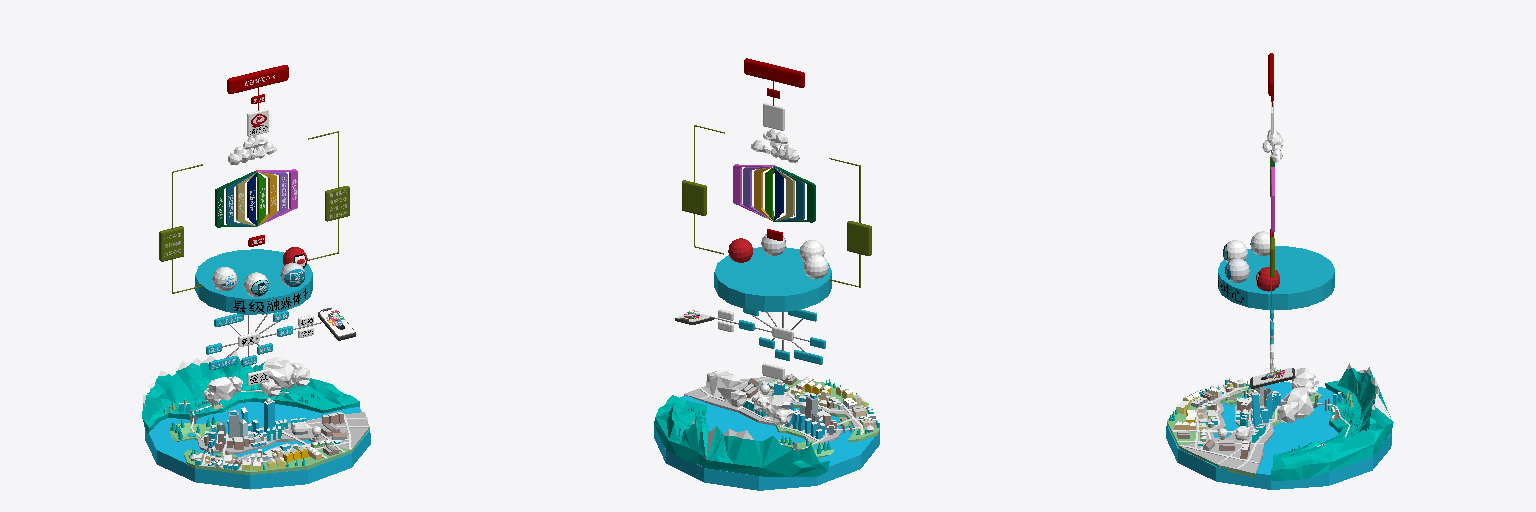
3 renders of one model, left to right at view 1: azimuth 30°, elevation 25°; view 2: azimuth 150°, elevation 25°; view 3: azimuth 270°, elevation 25°, orthographic.
Visible parts, largest first — view 1: mesh09, mesh10, mesh01, mesh17, Rectangle009, Rectangle010, mesh18; view 2: mesh09, mesh10, mesh01, mesh17, Rectangle009, Rectangle010; view 3: mesh09, mesh10.
Part boxes in pixels (bbox=[...]): mesh09: bbox=[142, 351, 370, 489]; mesh10: bbox=[195, 249, 312, 314]; mesh01: bbox=[227, 65, 288, 93]; mesh17: bbox=[228, 134, 276, 164]; Rectangle009: bbox=[325, 186, 349, 221]; Rectangle010: bbox=[159, 226, 183, 261]; mesh18: bbox=[318, 308, 355, 340]; mesh09: bbox=[654, 371, 879, 490]; mesh10: bbox=[714, 247, 831, 311]; mesh01: bbox=[744, 58, 804, 87]; mesh17: bbox=[751, 129, 799, 162]; Rectangle009: bbox=[682, 180, 706, 215]; Rectangle010: bbox=[847, 221, 871, 255]; mesh09: bbox=[1166, 363, 1393, 489]; mesh10: bbox=[1218, 246, 1334, 309].
Size of the model in its own units: 176 by 316 by 173.
Materials: 16 (16 with a texture image).